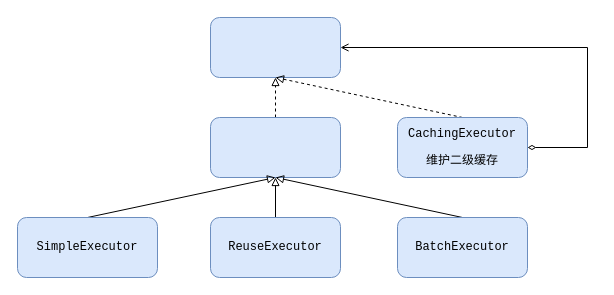
Some shapes in this 614 by 295 pixel diagram are drawn without their labels. Here are the shapes that lost their labels. From the top down, the centre of each, then its label:
At (275,47): "Executor".
At (275,147): "BaseExecutor 维护一级缓存".
